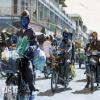motorcycles: (50, 49, 70, 90), (85, 50, 99, 89)
